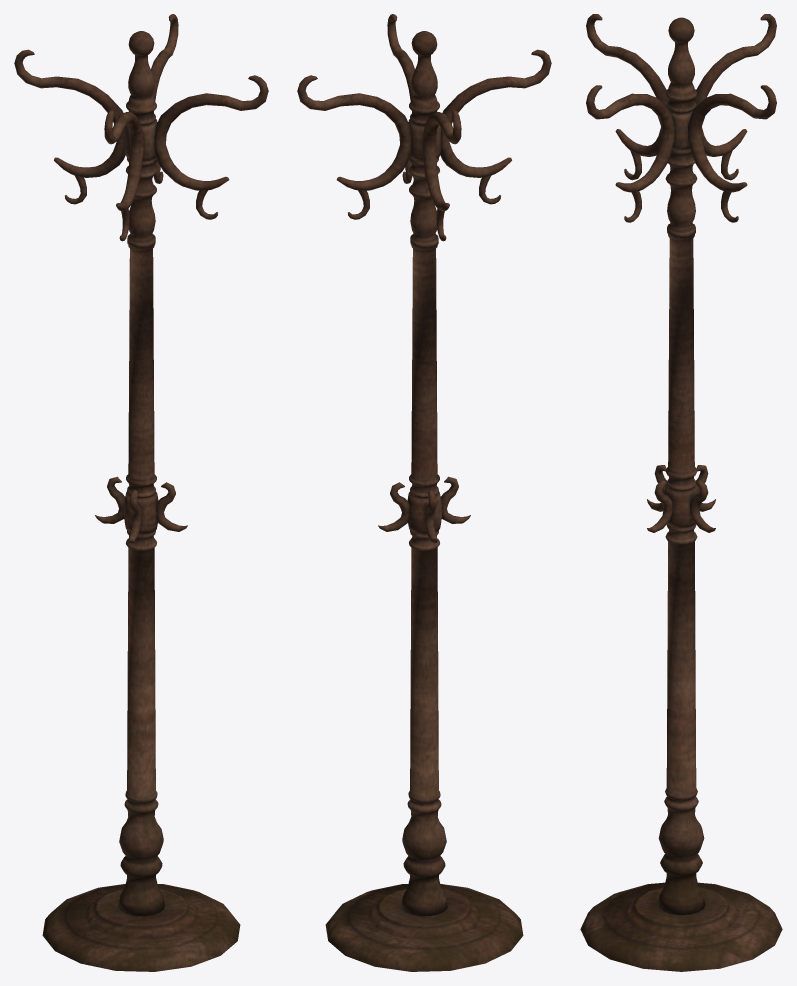
File: M_PorteManteau.fbx
3 views of the same model, side by side, from view 1: azimuth 30°, elevation 25°; view 2: azimuth 150°, elevation 25°; view 3: azimuth 270°, elevation 25° (orthographic).
Parts seen in each view (by area): view 1: CoatRack_low; view 2: CoatRack_low; view 3: CoatRack_low.
Boxes of the visible parts, bbox=[...] form: CoatRack_low: bbox=[14, 14, 268, 971]; CoatRack_low: bbox=[297, 14, 551, 971]; CoatRack_low: bbox=[580, 14, 782, 971].
Size of the model in its own units: 0.3677 by 1.83 by 0.3677.
